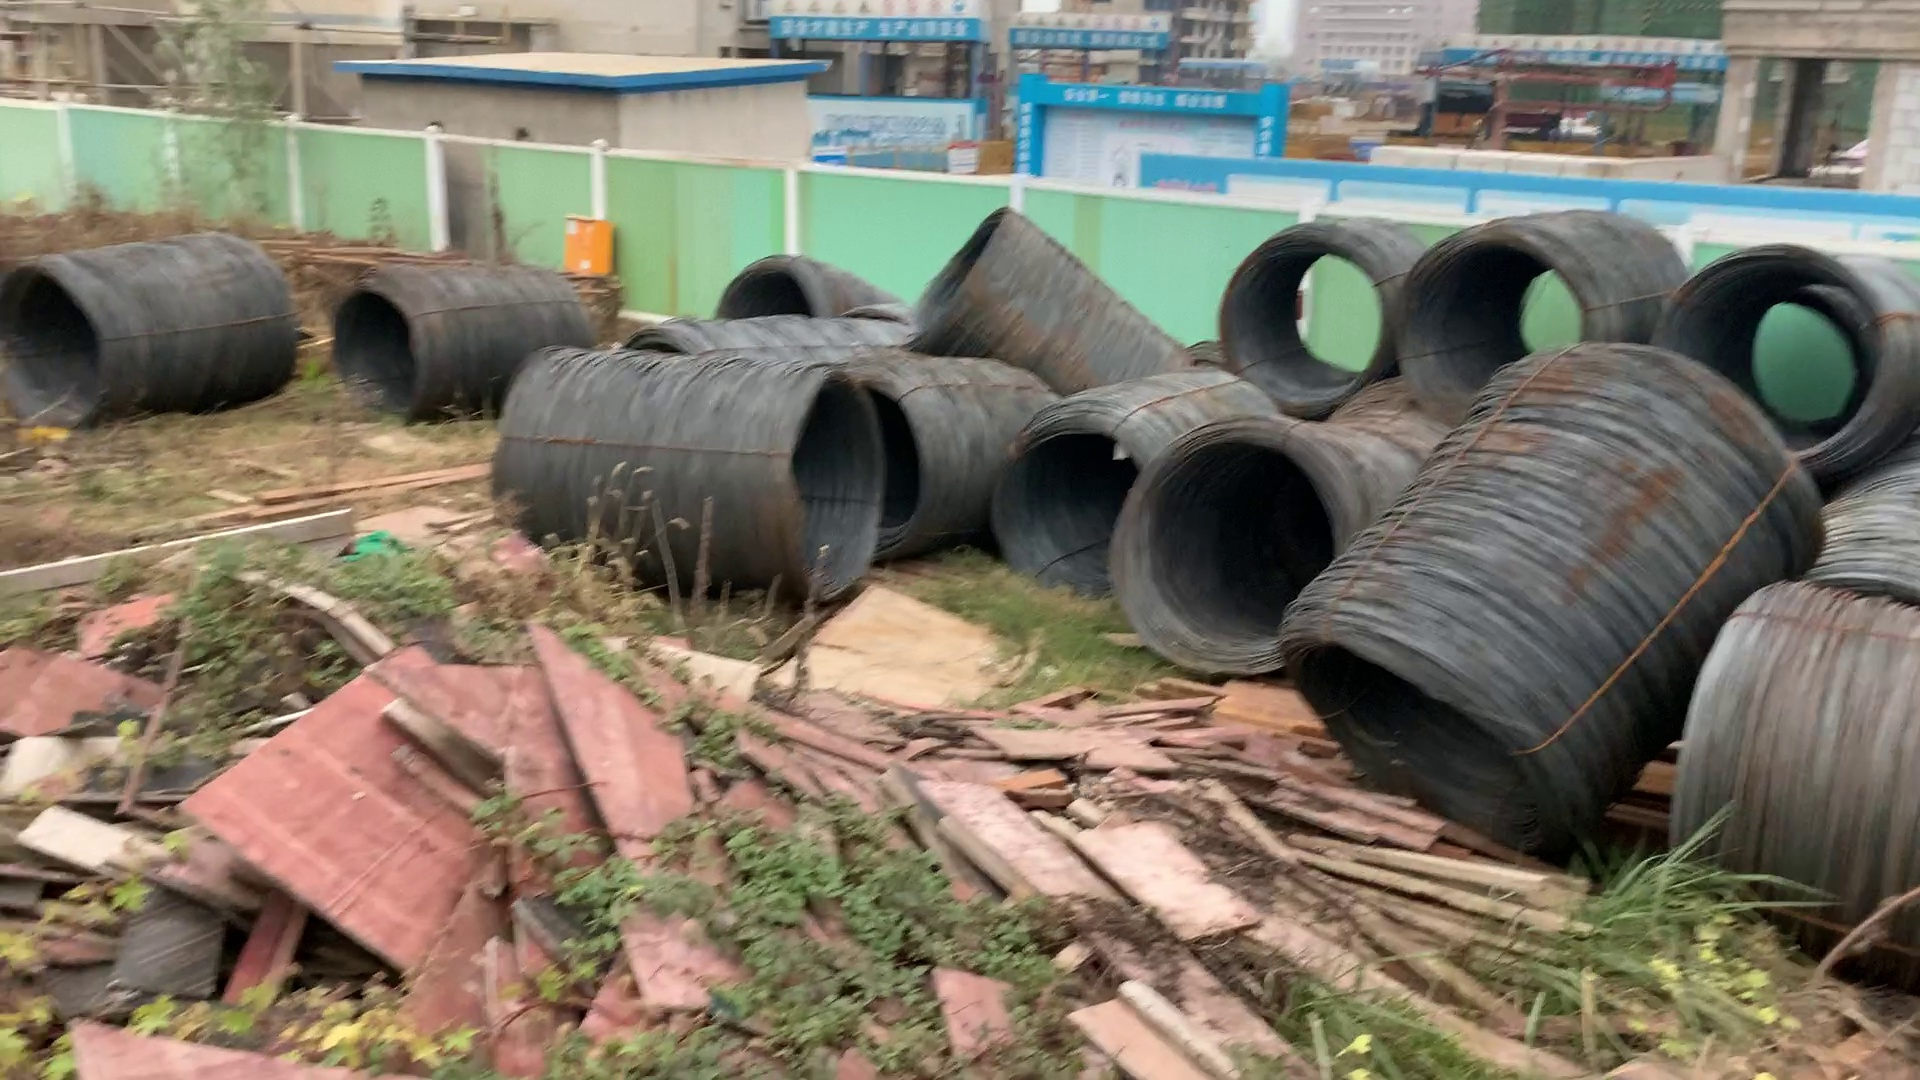coil: (1251, 626, 1588, 891), (1118, 421, 1357, 674), (1663, 243, 1888, 493), (1396, 227, 1593, 446), (1229, 227, 1393, 421), (985, 418, 1149, 607), (779, 375, 899, 607), (815, 368, 938, 568), (1, 278, 129, 438), (907, 204, 1018, 357), (332, 285, 438, 425), (713, 260, 827, 328), (611, 320, 709, 377)
